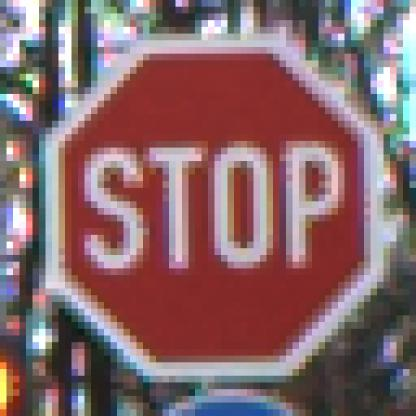Stop: (58, 39, 378, 374)
